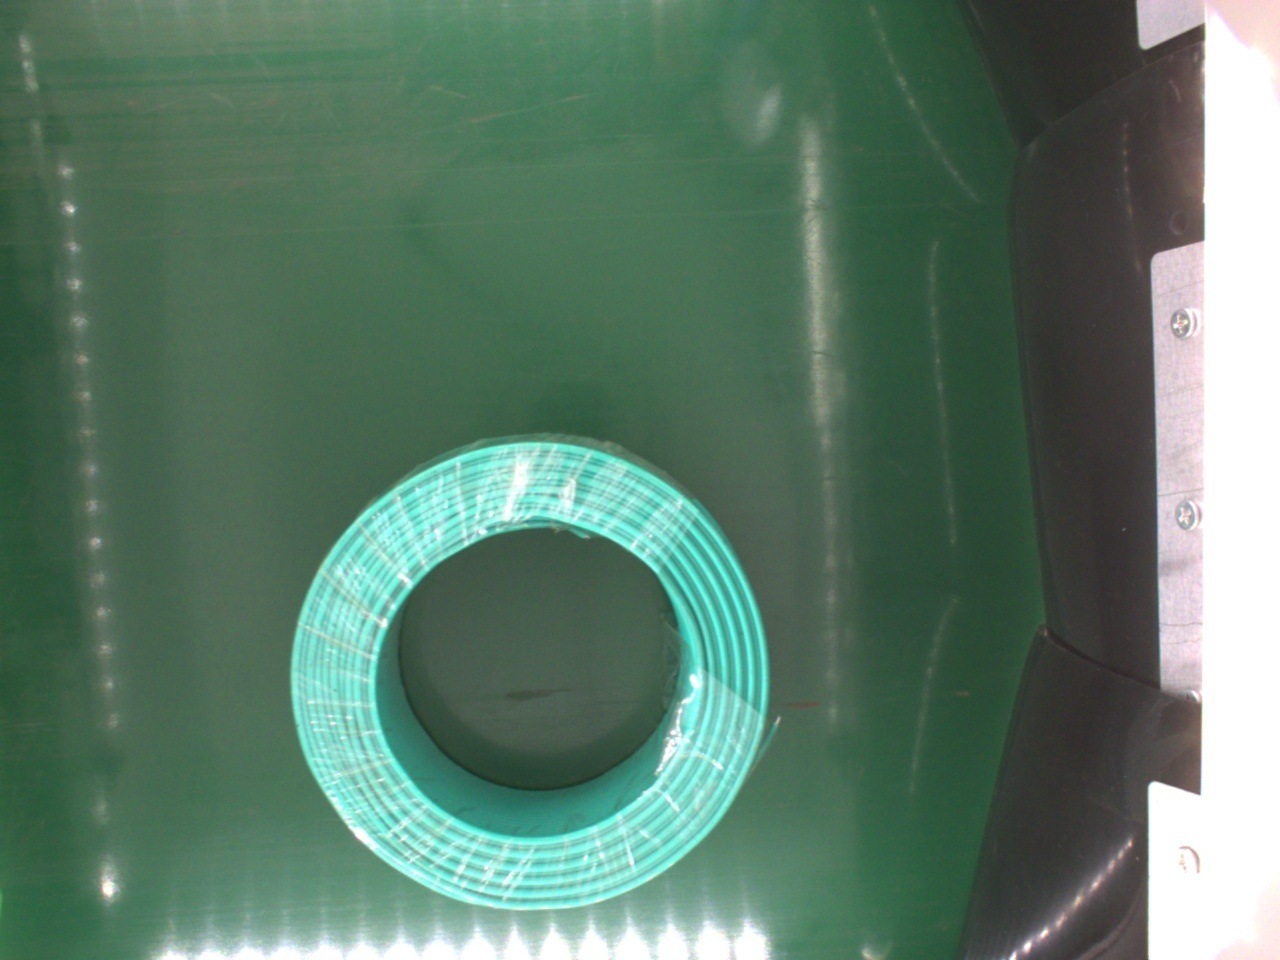green: (284, 433, 777, 917)
